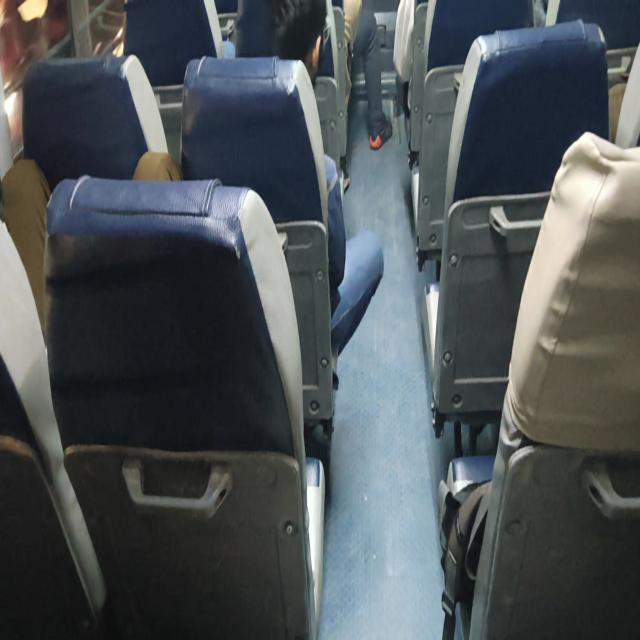person: (250, 0, 328, 83)
